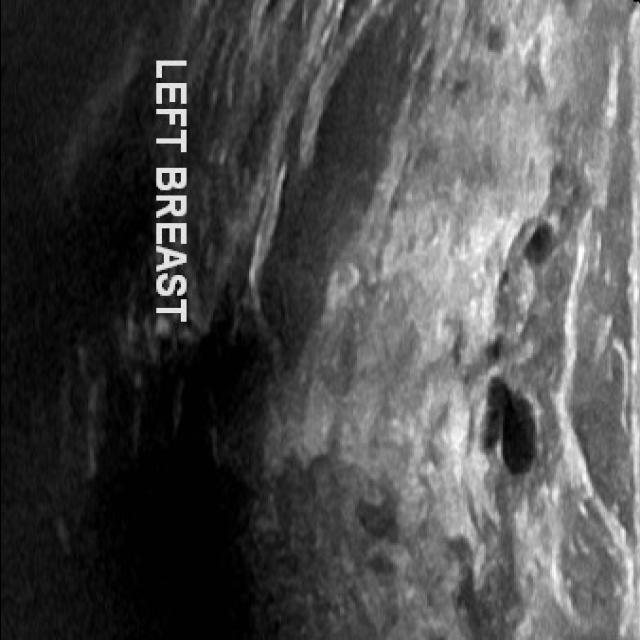Benign: (495, 377, 548, 479)
